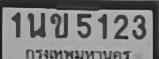1: (11, 11, 20, 37), (97, 13, 106, 38)
2: (113, 14, 127, 38)
3: (131, 14, 145, 39)
5: (76, 13, 91, 38)
A02: (49, 12, 67, 38)
A25: (27, 12, 45, 37)
BKK: (23, 45, 134, 59)
